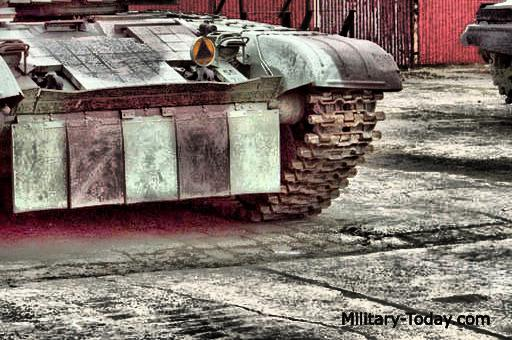tanks: (1, 1, 401, 221), (162, 1, 168, 3)
